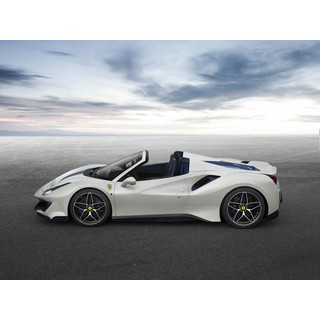car: (32, 150, 281, 226)
